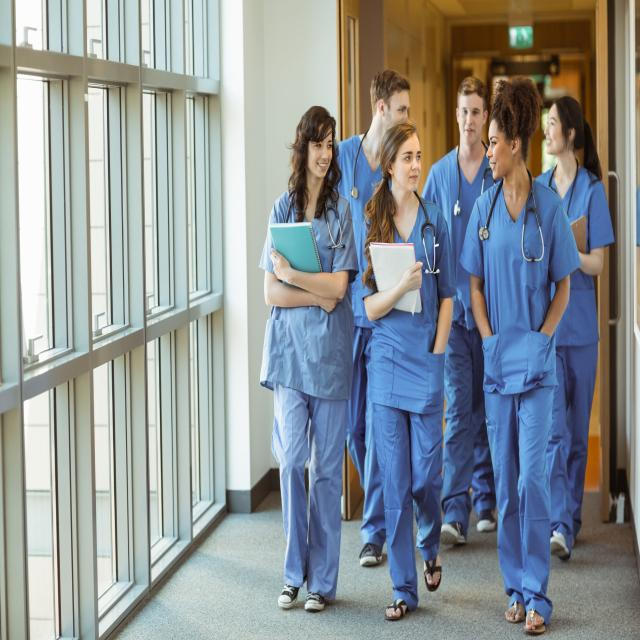body: (457, 72, 584, 634), (258, 103, 359, 614), (361, 116, 459, 624), (328, 67, 412, 566), (533, 93, 617, 563), (421, 74, 503, 546)
